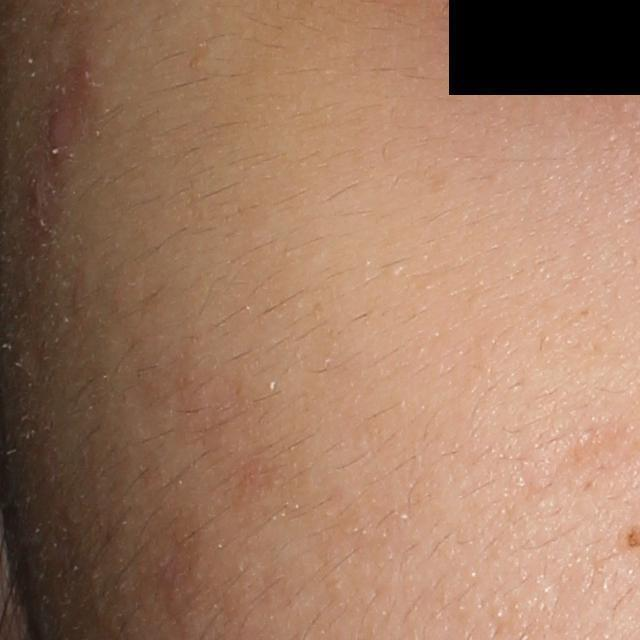papule: (42, 106, 78, 154)
